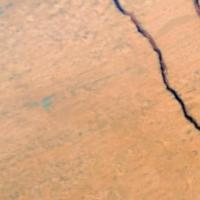crack: (113, 0, 199, 145)
